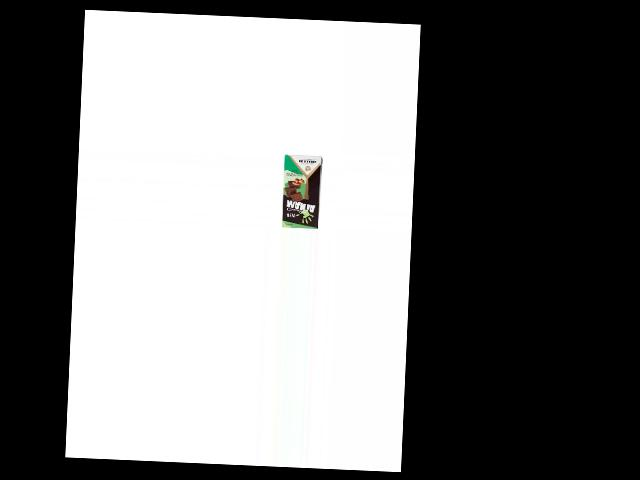chocolate: (279, 153, 323, 230)
